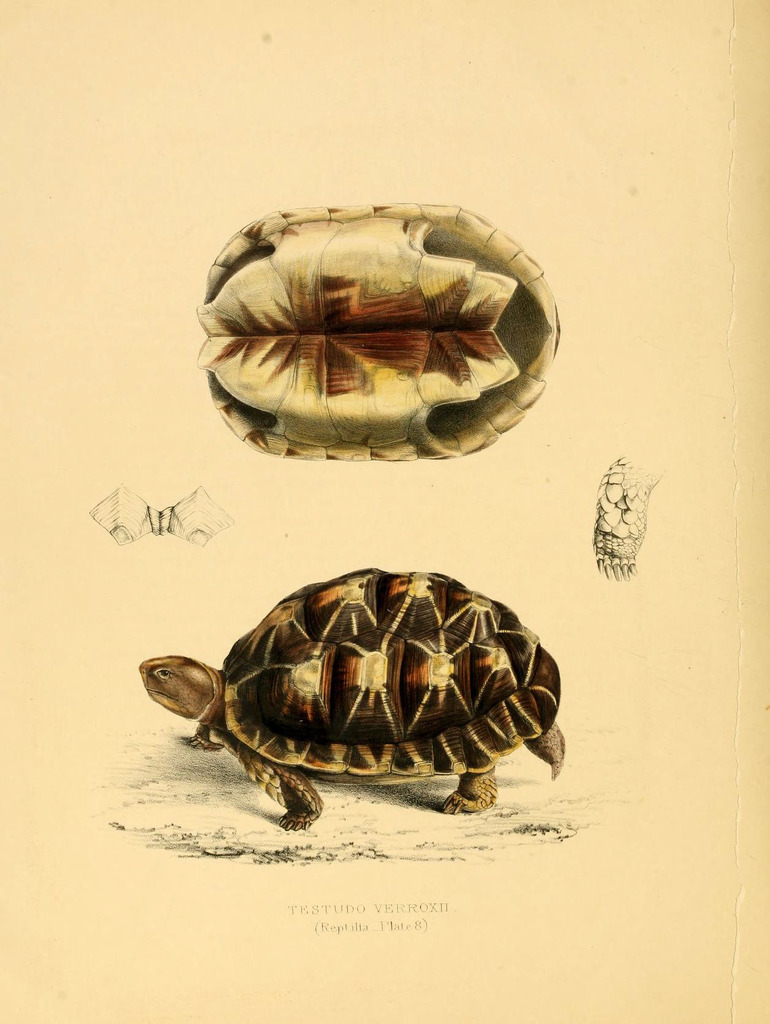Sea turtles: (138, 562, 570, 839), (191, 195, 565, 469)
